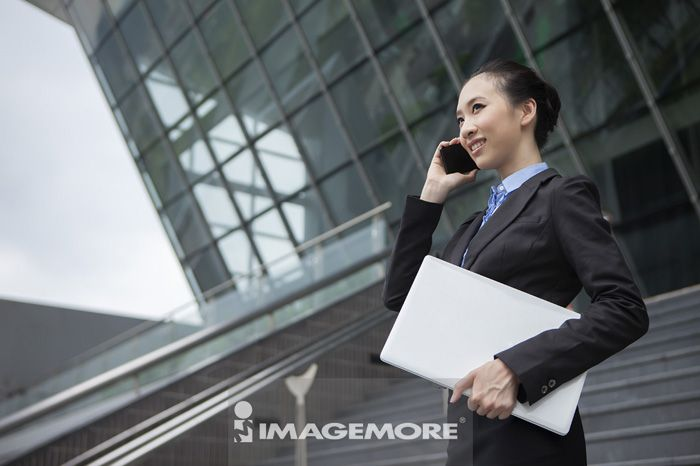talk: (425, 92, 499, 197)
